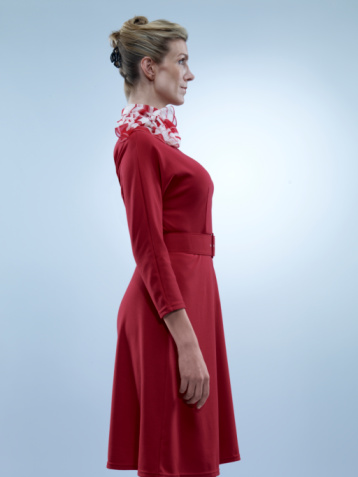em pe: (91, 0, 251, 477)
